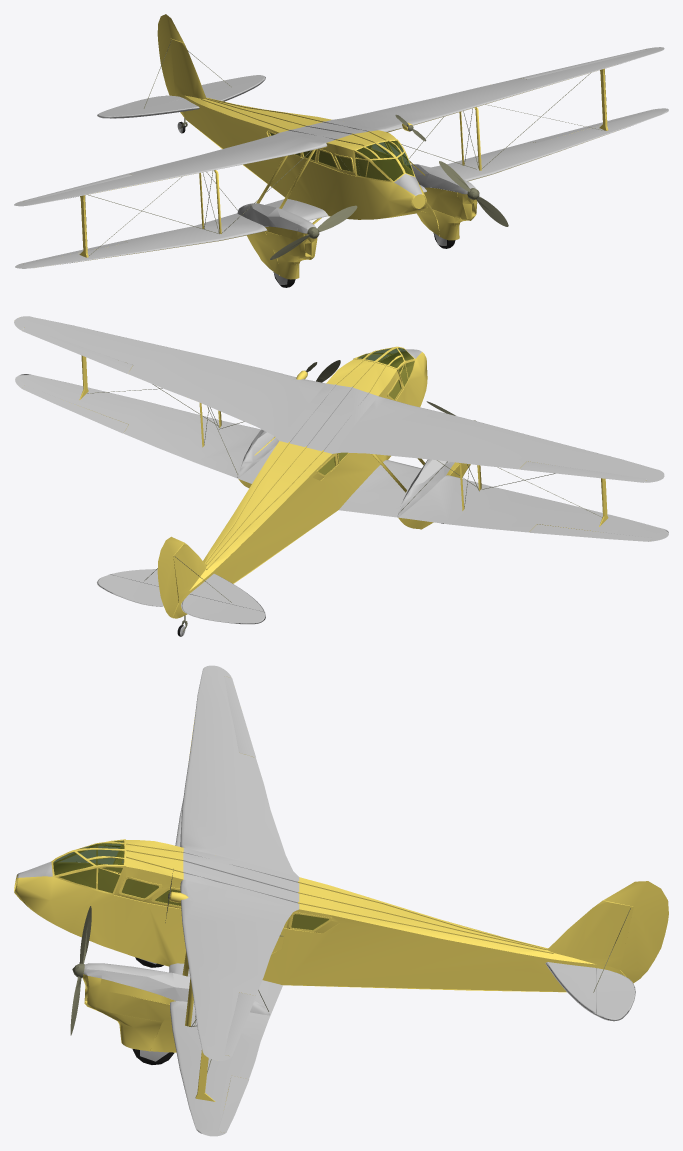
File: LALA.obj
3 renders of one model, top to bottom at view 1: azimuth 30°, elevation 25°; view 2: azimuth 150°, elevation 25°; view 3: azimuth 270°, elevation 25°, orthographic. The views are drawn at different scales.
Parts seen in each view (by area): view 1: (null); view 2: (null); view 3: (null).
Part boxes in pixels (<box>): (null): <box>14,14,668,287</box>; (null): <box>14,316,668,636</box>; (null): <box>14,665,668,1136</box>.
Bounding box in the file's own units: 136265 × 27318 × 95079.
